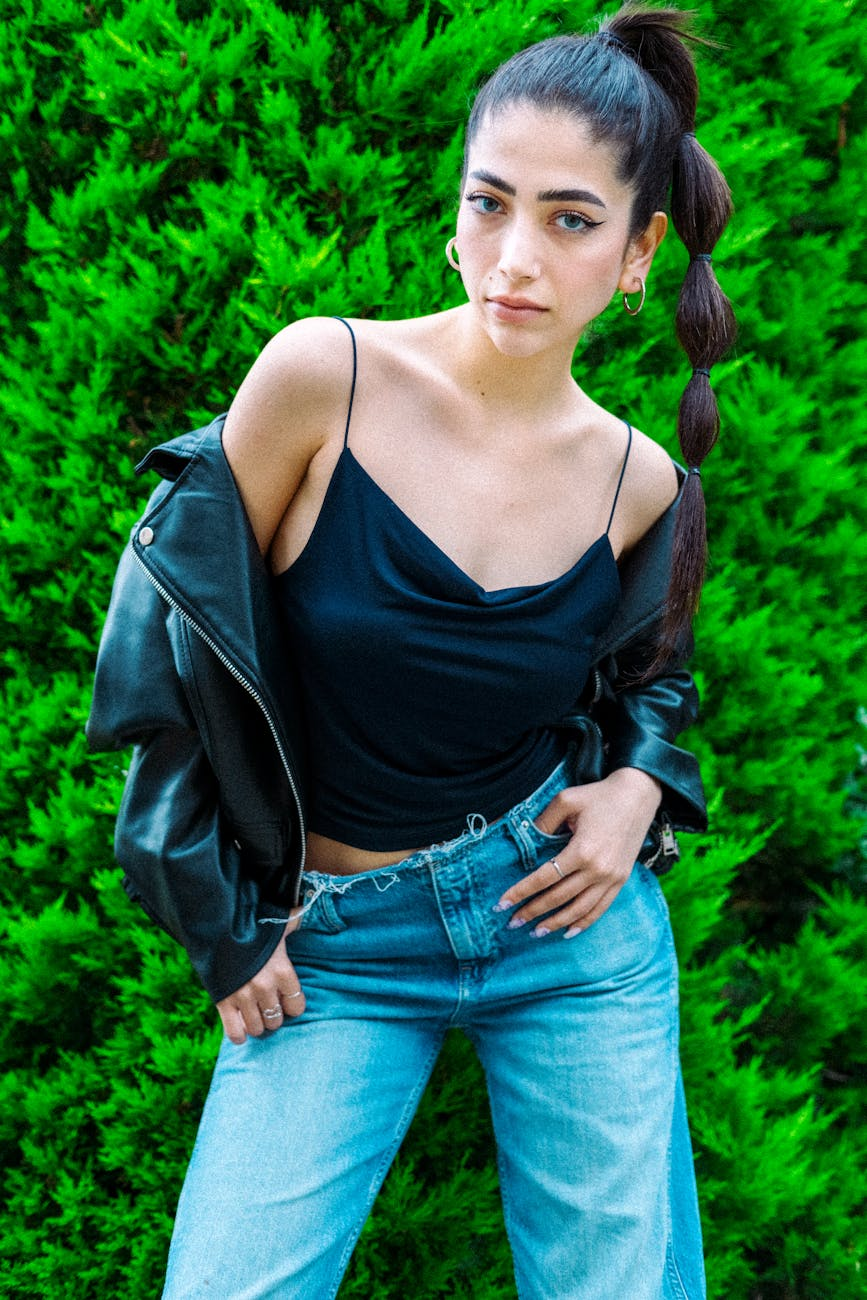crop_top: (229, 301, 692, 843)
